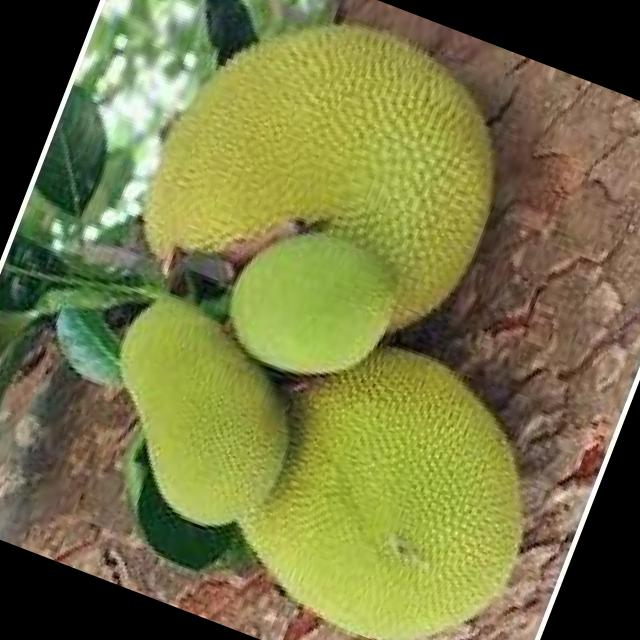Fruit: (105, 0, 573, 385), (187, 282, 597, 640)
